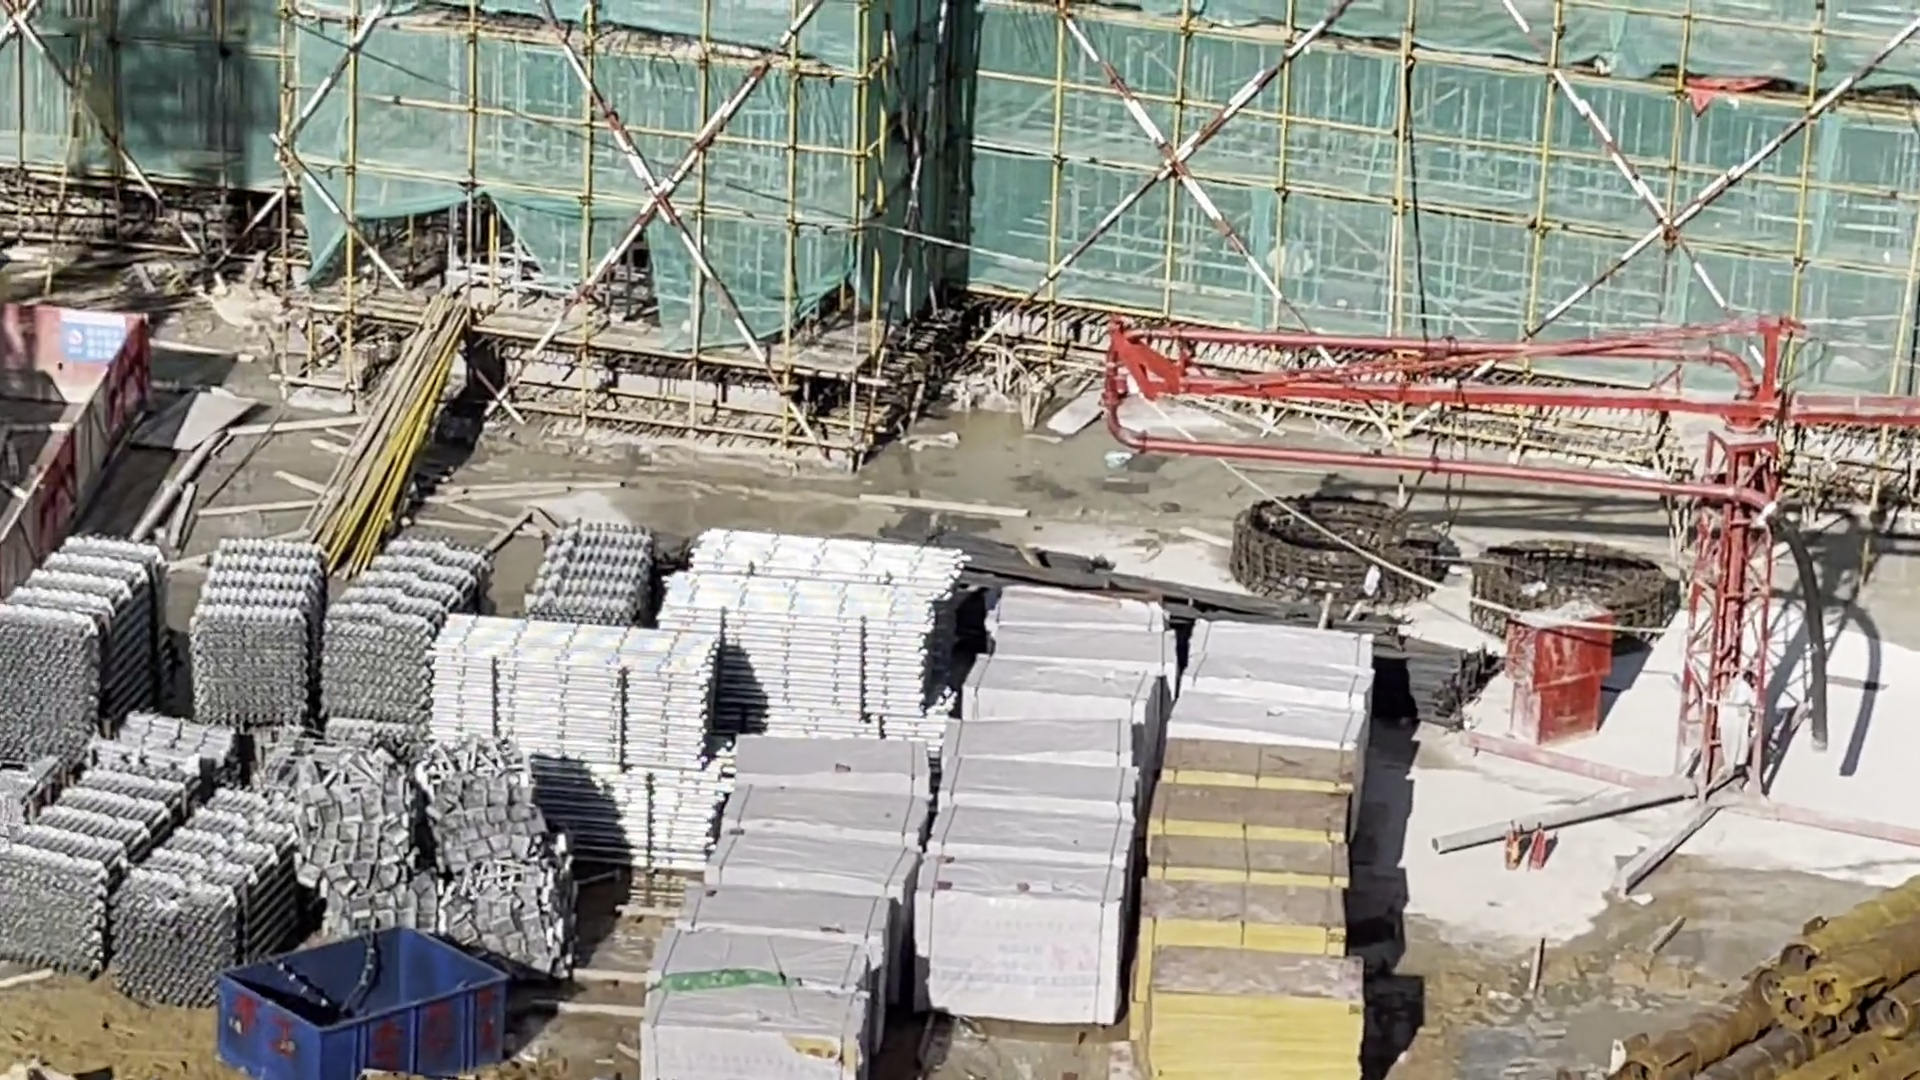board: (1138, 741, 1361, 1080)
fence: (1, 305, 142, 556)
hopper: (223, 930, 506, 1080)
rebar: (959, 539, 1497, 723)
scaffold: (1, 770, 319, 1002), (438, 618, 715, 876), (666, 535, 948, 727), (193, 538, 481, 719), (1, 546, 175, 744), (535, 526, 654, 626)
slogan: (61, 311, 127, 367)
